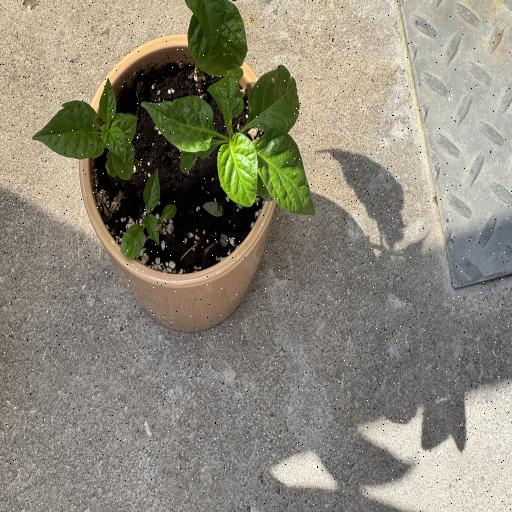Plant Pot: (75, 33, 284, 332)
